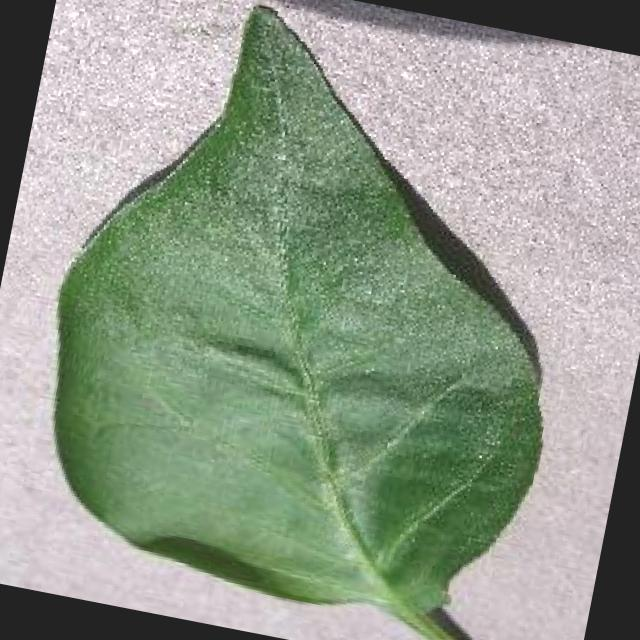Leaf: (24, 130, 610, 633)
